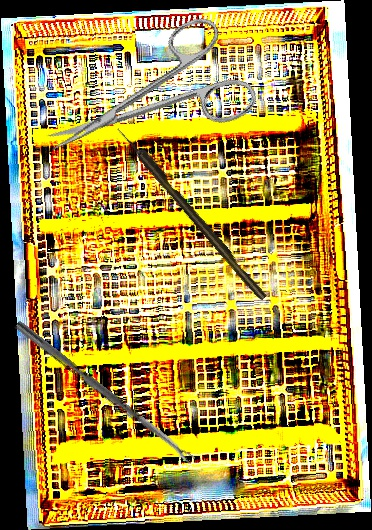Hook Surgical: (115, 123, 268, 303)
Iris Scissors: (26, 7, 263, 191)
Surgical Spoon: (13, 320, 196, 466)
